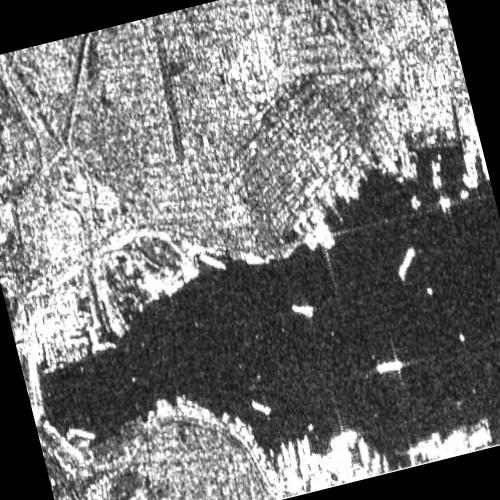ship: (397, 246, 417, 280), (199, 252, 227, 270), (376, 359, 404, 375), (68, 427, 98, 441), (290, 303, 316, 319), (251, 400, 272, 416), (288, 441, 299, 470), (280, 442, 291, 469), (296, 439, 306, 463), (302, 435, 312, 458), (276, 453, 286, 473)
